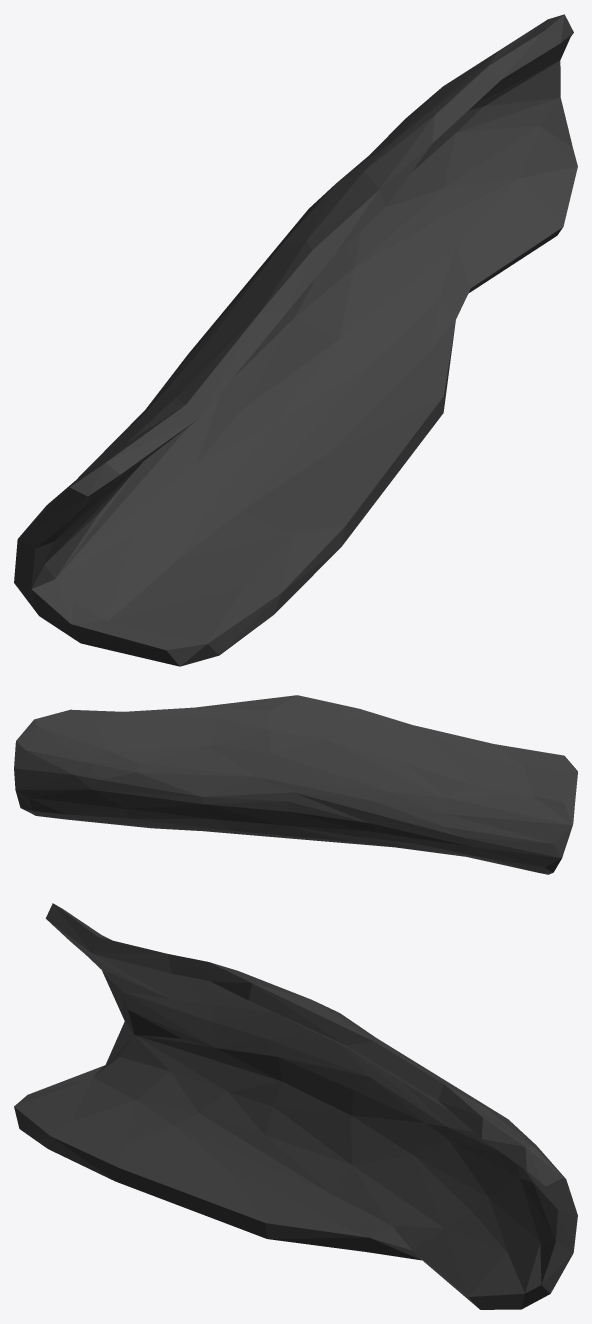
Rendered from Tibia_cranial_border.glb.
The picture shows the model from 3 angles, top to bottom: view 1: azimuth 30°, elevation 25°; view 2: azimuth 150°, elevation 25°; view 3: azimuth 270°, elevation 25°; orthographic projection. The views are drawn at different scales.
Visible parts, largest first — view 1: Tibia_cranial_border; view 2: Tibia_cranial_border; view 3: Tibia_cranial_border.
Boxes of the visible parts, <box> form: Tibia_cranial_border: <box>14,14,577,666</box>; Tibia_cranial_border: <box>14,695,577,874</box>; Tibia_cranial_border: <box>14,903,577,1309</box>.
Bounding box in the file's own units: 0.0439 × 0.0161 × 0.03.
1 material, 1 textured.
